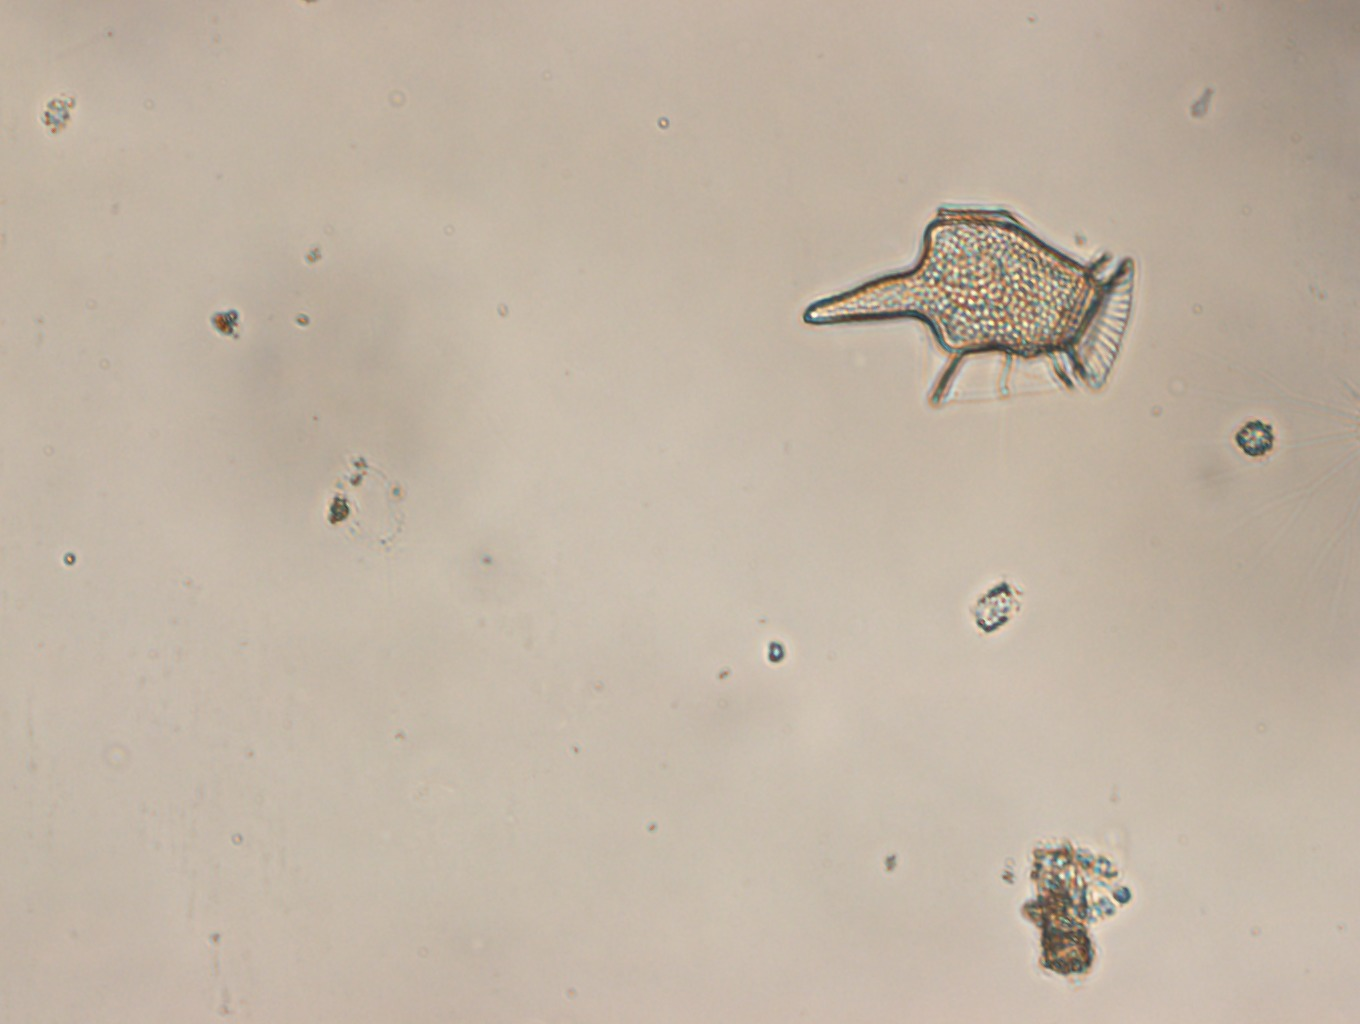dinophysis caudata: (802, 200, 1139, 410)
